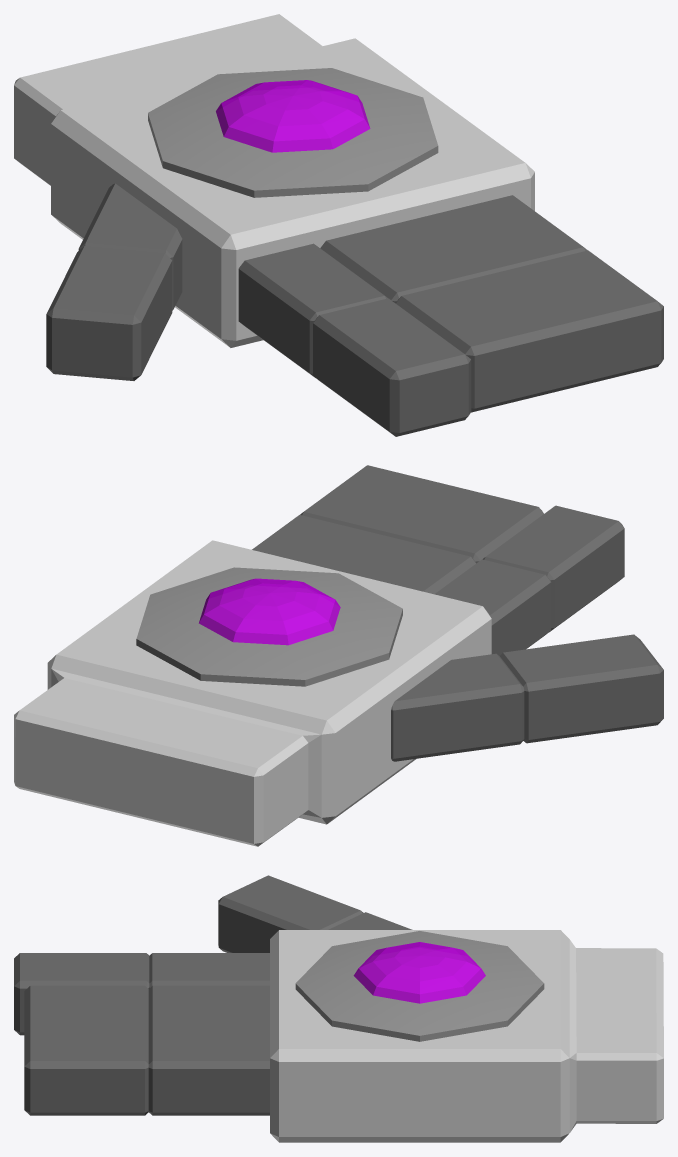
The model's file is GAME3040 - Left Hand.fbx.
The picture shows the model from 3 angles, top to bottom: view 1: azimuth 30°, elevation 25°; view 2: azimuth 150°, elevation 25°; view 3: azimuth 270°, elevation 25°; orthographic projection. The views are drawn at different scales.
Parts seen in each view (by area): view 1: Palm, pCube5, pCylinder1, pCube3, Other_Fingers, pCube7, Index_Finger, pSphere1, Thumb; view 2: Palm, pCylinder1, pCube7, pCube5, Thumb, pCube3, Other_Fingers, pSphere1, Index_Finger; view 3: Palm, pCube5, Other_Fingers, pCylinder1, pCube7, pSphere1, pCube3, Index_Finger, Thumb.
Boxes of the visible parts, bbox=[...] form: Palm: bbox=[14, 14, 534, 347]; pCube5: bbox=[396, 250, 663, 412]; pCylinder1: bbox=[148, 68, 438, 197]; pCube3: bbox=[313, 298, 471, 436]; Other_Fingers: bbox=[320, 195, 587, 303]; pCube7: bbox=[46, 246, 172, 380]; Index_Finger: bbox=[238, 243, 387, 377]; pSphere1: bbox=[216, 80, 370, 152]; Thumb: bbox=[78, 183, 182, 310]; Palm: bbox=[14, 540, 491, 846]; pCylinder1: bbox=[136, 567, 402, 686]; pCube7: bbox=[500, 634, 663, 743]; pCube5: bbox=[300, 465, 543, 563]; Thumb: bbox=[391, 653, 524, 761]; pCube3: bbox=[483, 505, 624, 631]; Other_Fingers: bbox=[252, 515, 475, 594]; pSphere1: bbox=[199, 578, 340, 645]; Index_Finger: bbox=[434, 559, 551, 655]; Palm: bbox=[270, 930, 663, 1142]; pCube5: bbox=[24, 985, 148, 1115]; Other_Fingers: bbox=[148, 985, 269, 1115]; pCylinder1: bbox=[295, 931, 544, 1041]; pCube7: bbox=[218, 875, 363, 952]; pSphere1: bbox=[353, 942, 485, 1003]; pCube3: bbox=[14, 953, 149, 1035]; Index_Finger: bbox=[149, 953, 269, 988]; Thumb: bbox=[328, 912, 412, 929].
Size of the model in its own units: 1.81 by 0.5415 by 2.51.
